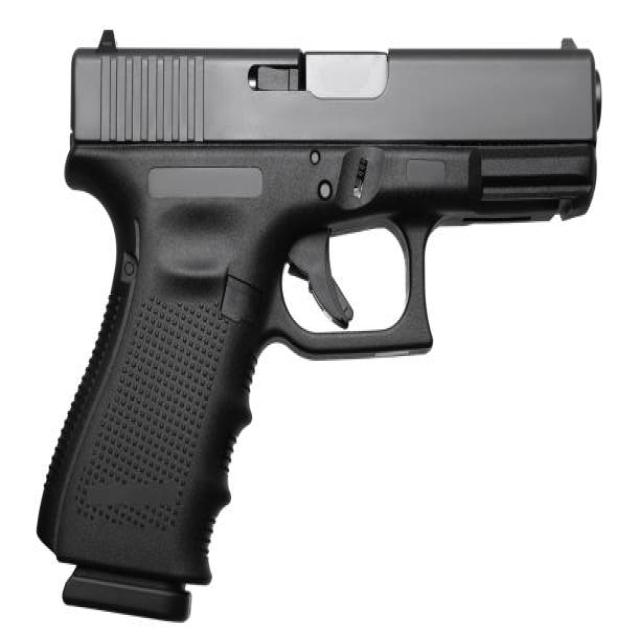pistol: (30, 28, 607, 633)
